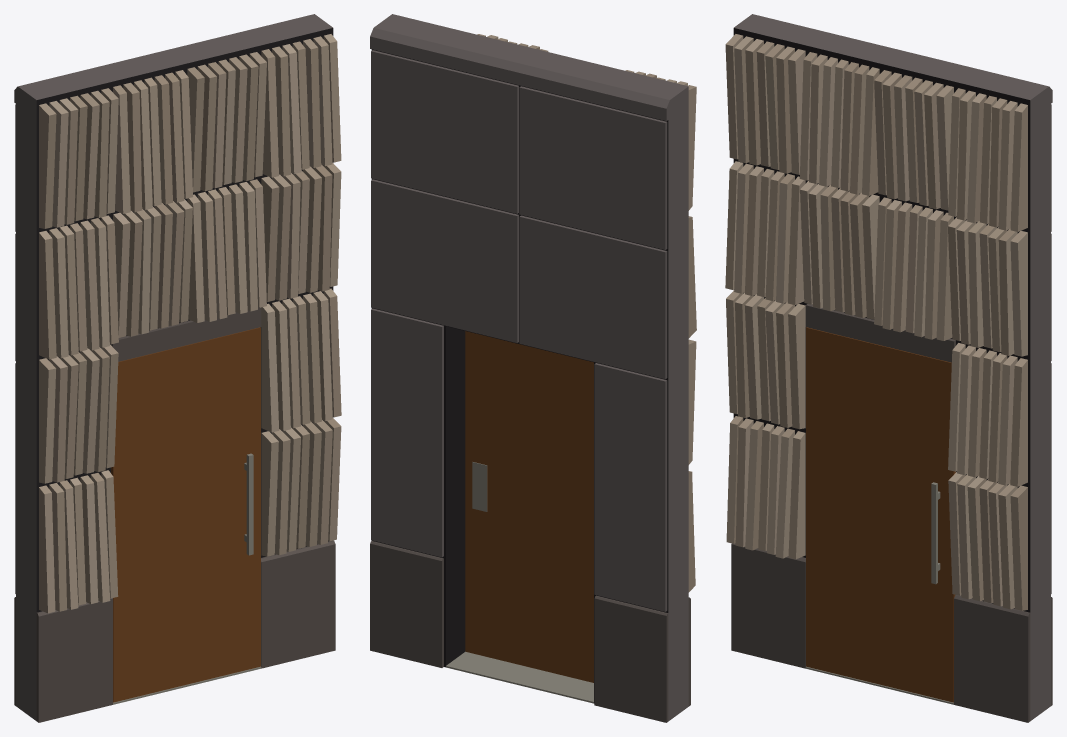
The model's file is modern-acoustic-wall-54b9be.glb.
3 renders of one model, left to right at view 1: azimuth 30°, elevation 25°; view 2: azimuth 150°, elevation 25°; view 3: azimuth 330°, elevation 25°, orthographic.
Parts seen in each view (by area): view 1: wall, door-leaf; view 2: wall, door-leaf; view 3: wall, door-leaf.
Part boxes in pixels (x1=…): wall: x1=14, y1=14, x2=341, y2=722; door-leaf: x1=111, y1=327, x2=260, y2=702; wall: x1=370, y1=14, x2=696, y2=722; door-leaf: x1=465, y1=331, x2=593, y2=682; wall: x1=725, y1=14, x2=1052, y2=722; door-leaf: x1=806, y1=327, x2=955, y2=702.
Size of the model in its own units: 2 by 4 by 0.4.
